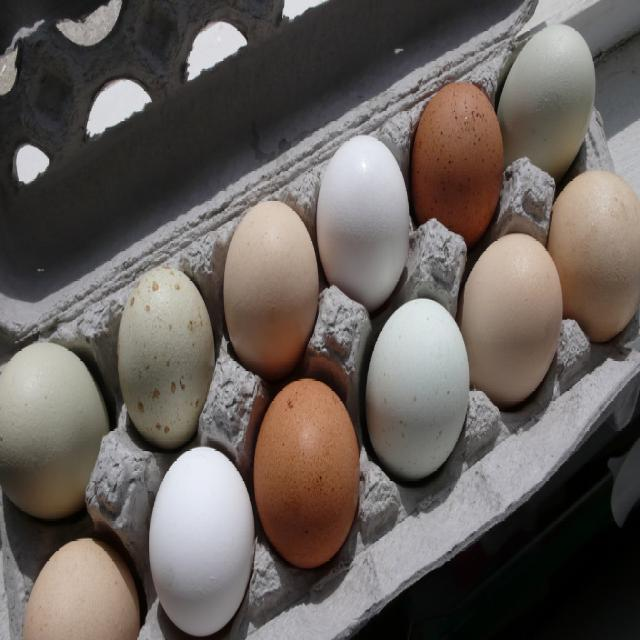Egg: (0, 252, 640, 484), (362, 298, 476, 484)
